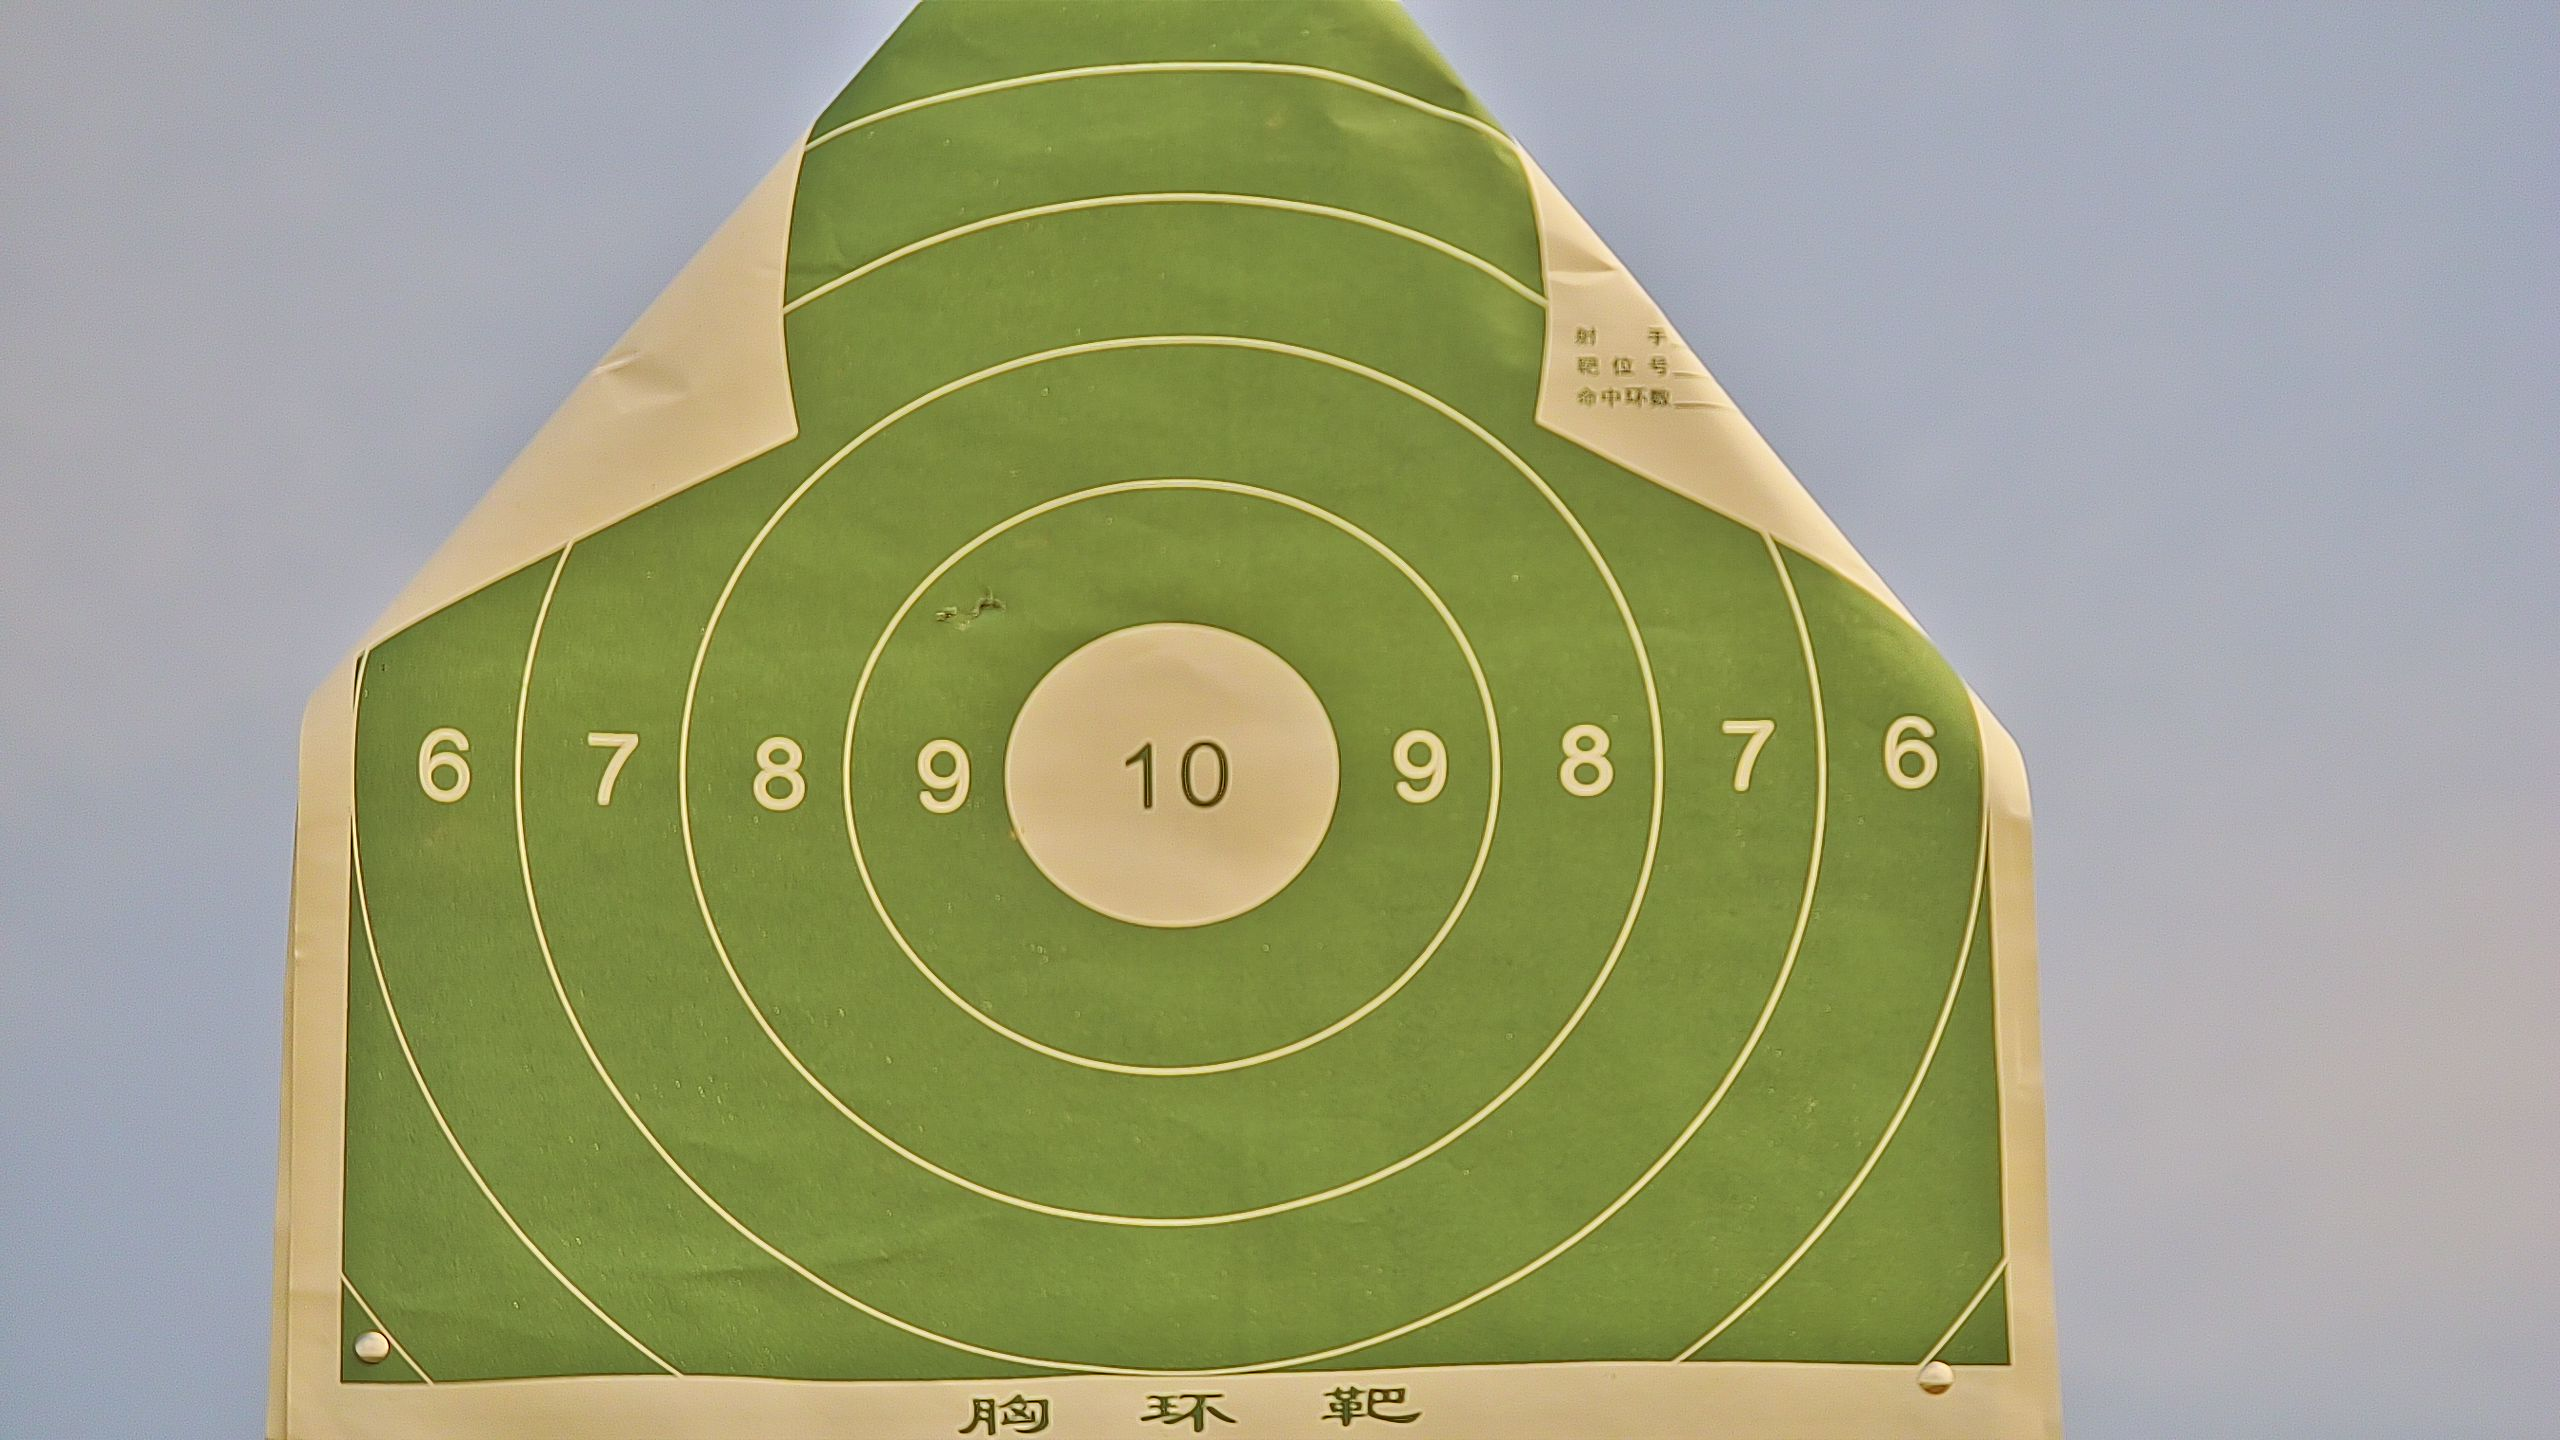kernel: (1166, 775, 1171, 782)
target: (332, 5, 2025, 1385)
ten: (1000, 617, 1342, 932)
